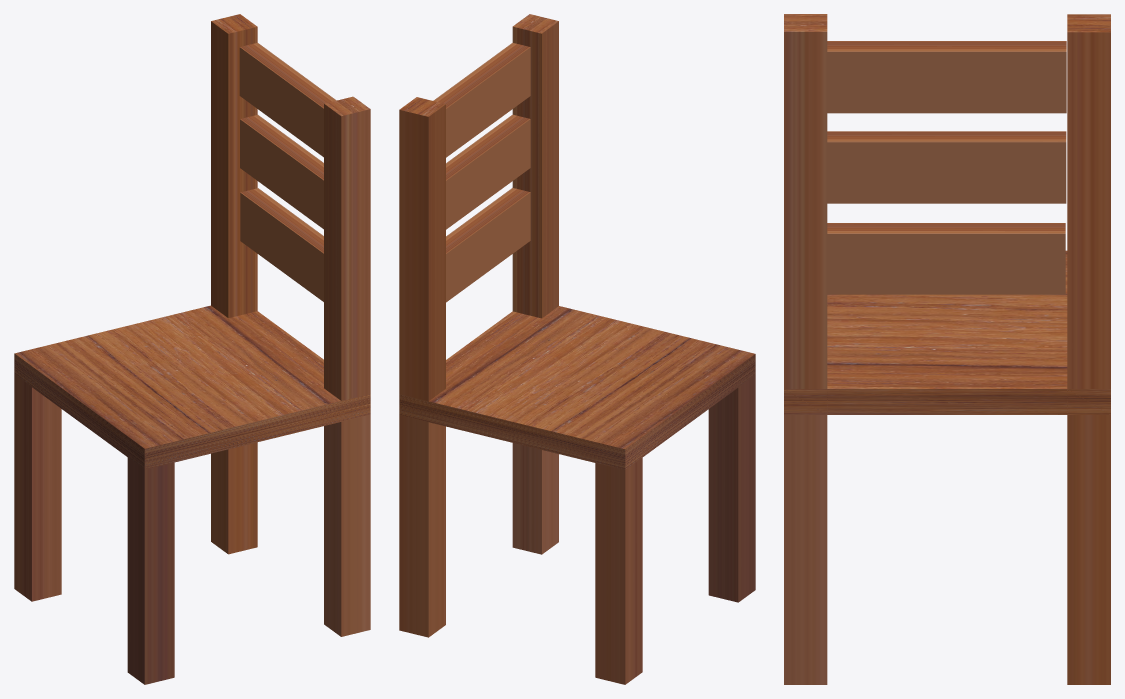
File: chair.fbx
3 renders of one model, left to right at view 1: azimuth 30°, elevation 25°; view 2: azimuth 150°, elevation 25°; view 3: azimuth 270°, elevation 25°, orthographic. The views are drawn at different scales.
Visible parts, largest first — view 1: Cube; view 2: Cube; view 3: Cube.
Boxes of the visible parts, x1,y1,x2,y2 form: Cube: (14, 14, 370, 684); Cube: (399, 14, 755, 684); Cube: (784, 14, 1110, 684).
Bounding box in the file's own units: 489 × 1079 × 489.
1 material, 1 textured.
